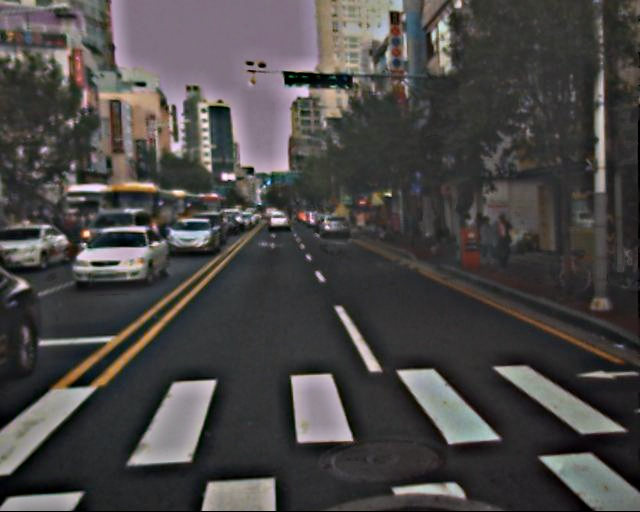person: (611, 240, 640, 295), (489, 212, 514, 274), (476, 220, 497, 271), (428, 209, 446, 253), (414, 208, 429, 245)
